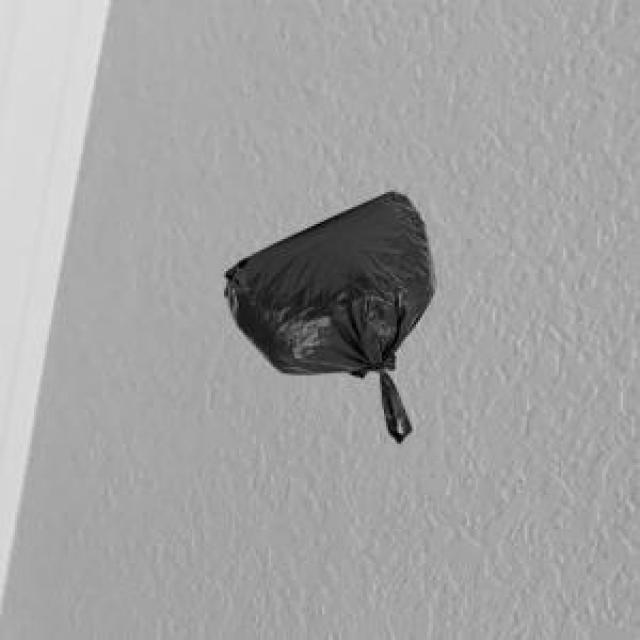miscellaneous trash: (222, 188, 431, 440)
